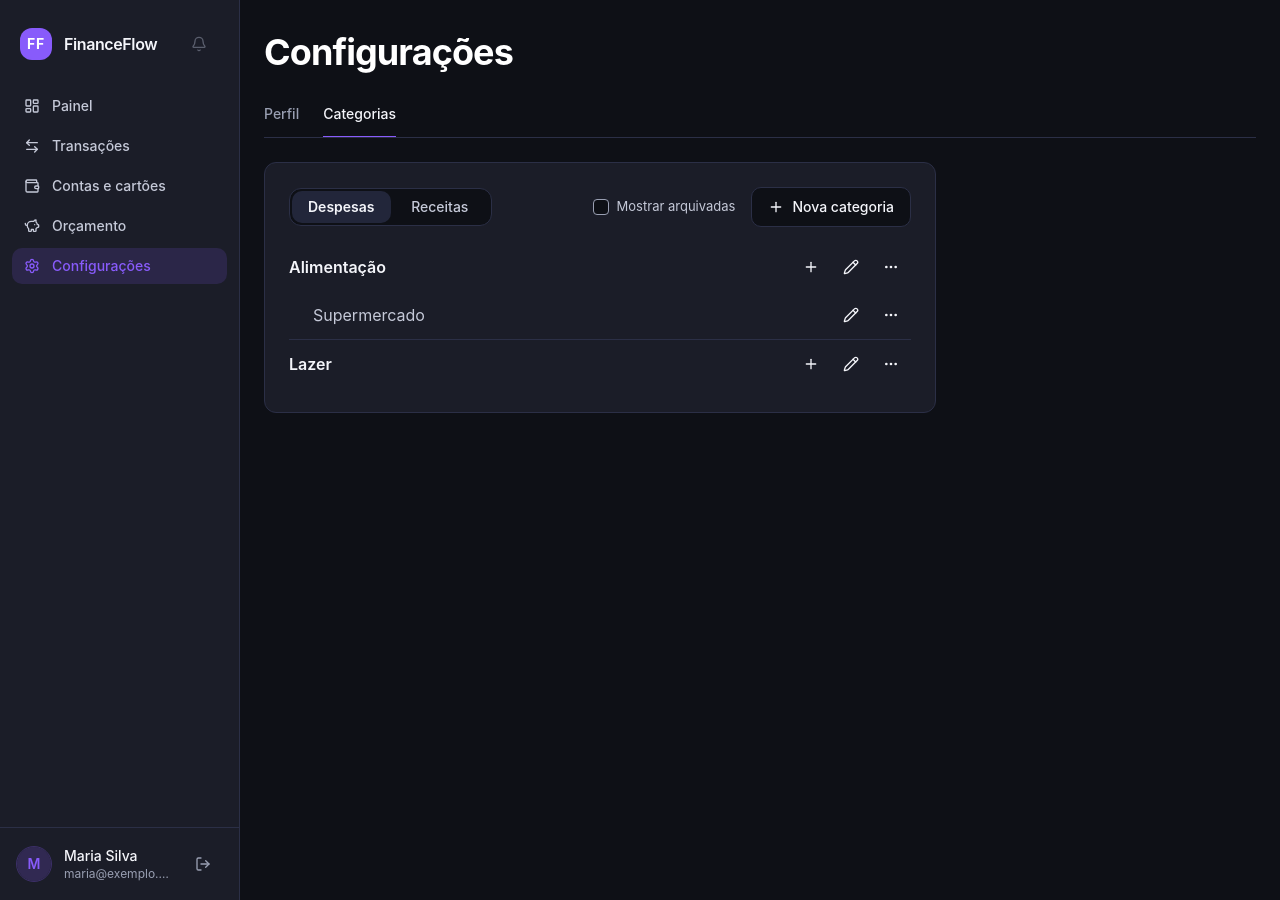
it: configurações: categorias › renomeia e mostra o erro de nome repetido
Click the button named "Renomear Lazer" at [851, 364], box [831, 344, 871, 384]
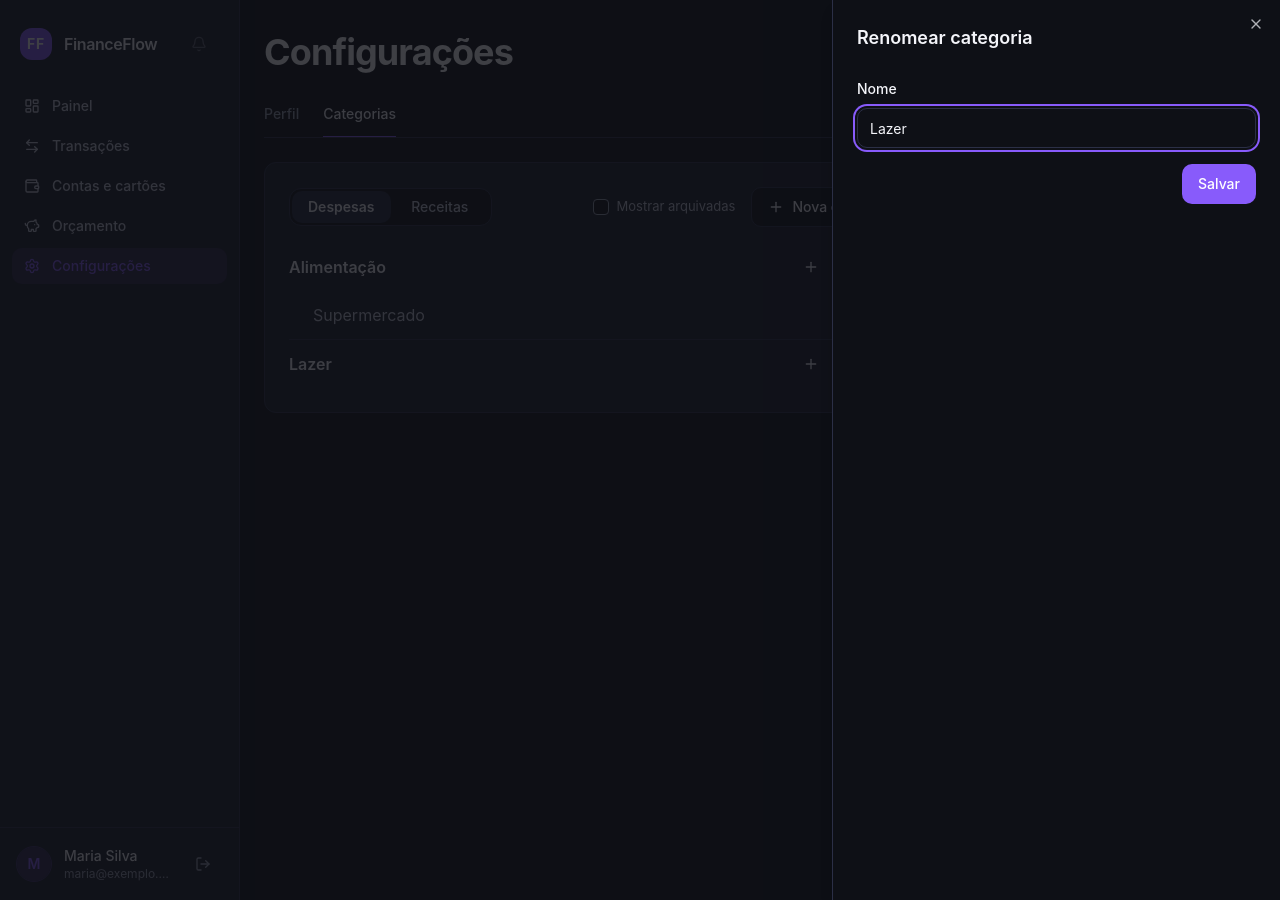
Check: the field labelled "Nome" holds "Lazer"
Replace the text in the field labelled "Nome" with "Alimentação" at [1056, 128], box [857, 108, 1256, 148]
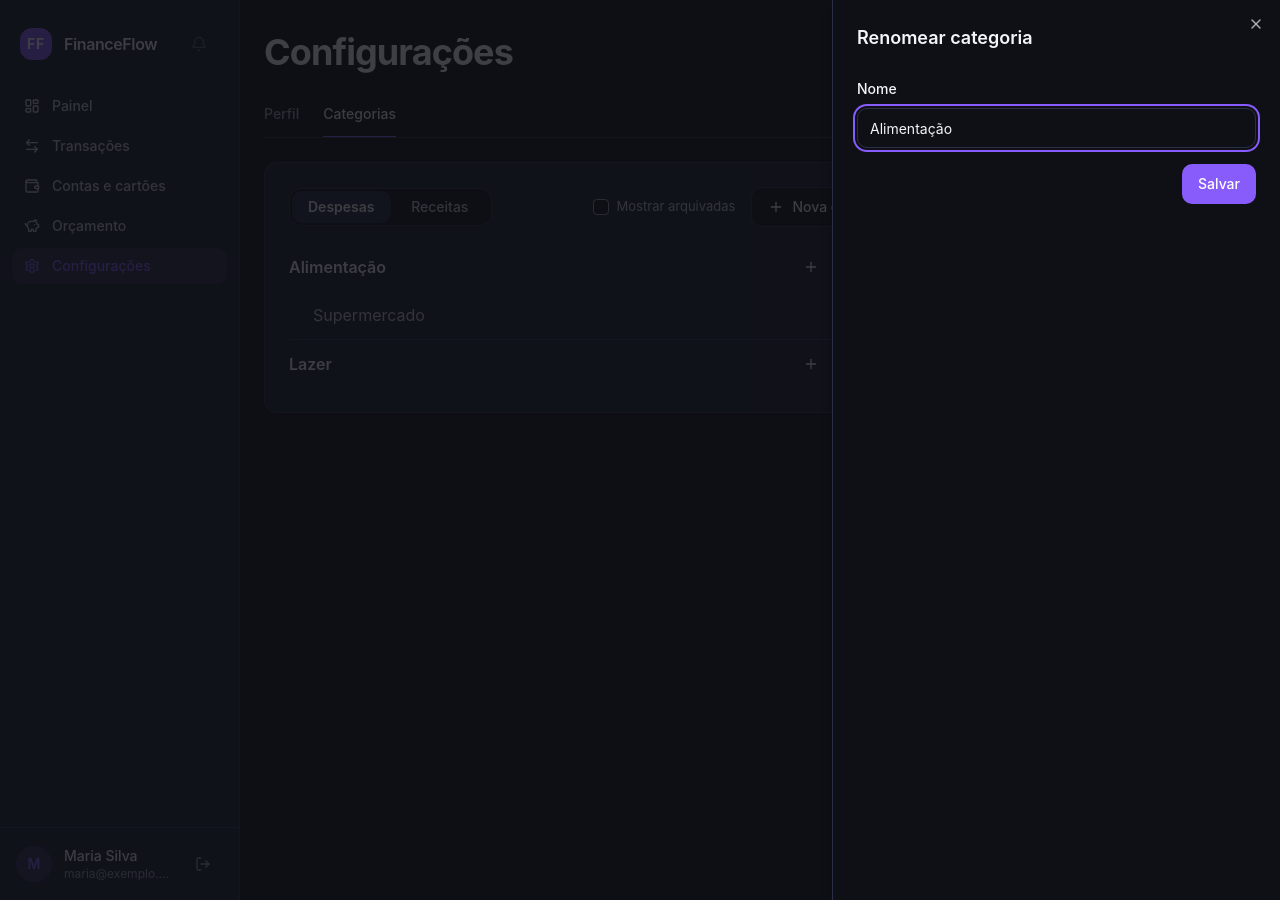
Click the button "Salvar" at [1219, 184], box [1182, 164, 1256, 204]
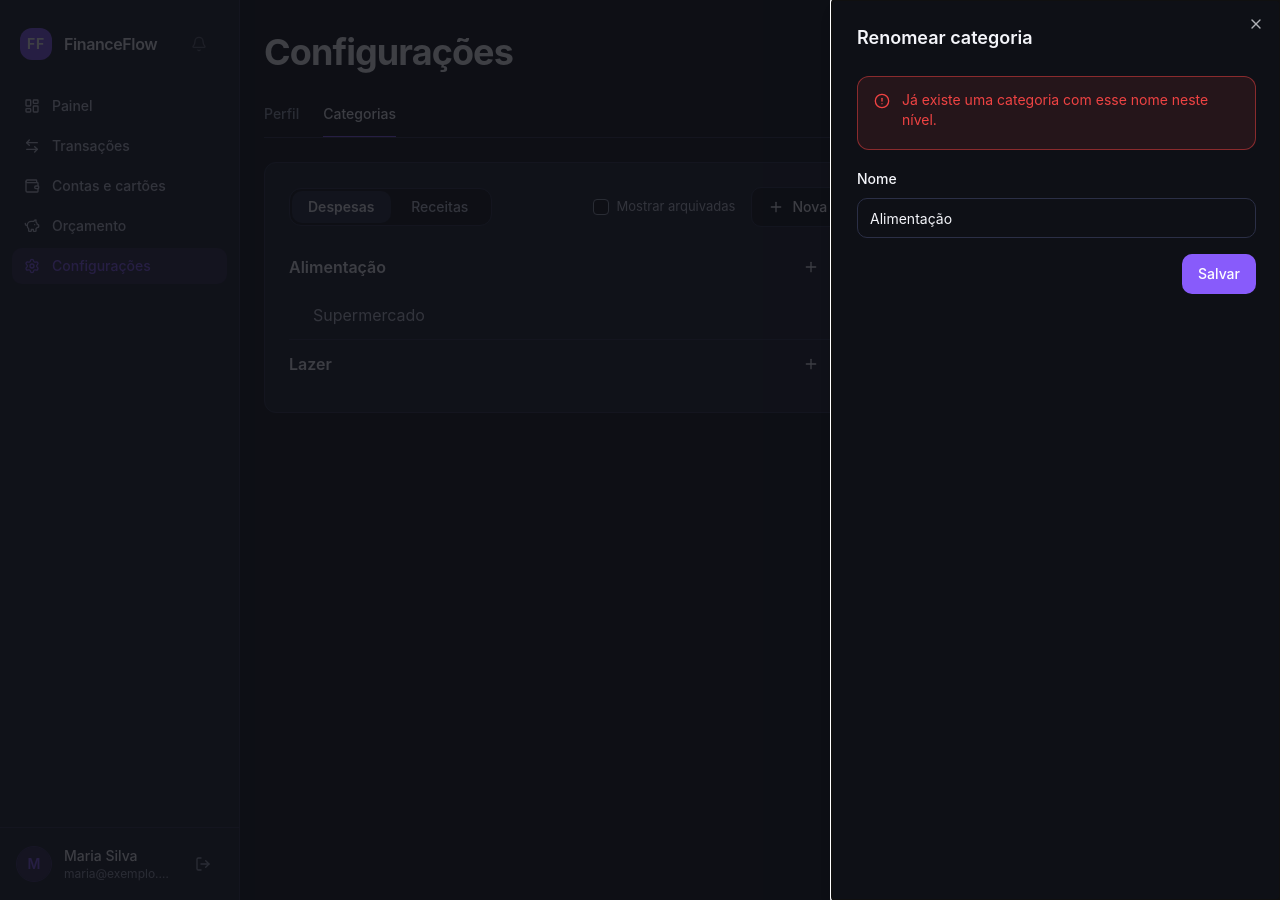
Check: the text "Já existe uma categoria com esse nome neste nível." is shown, box [902, 91, 1208, 128]
